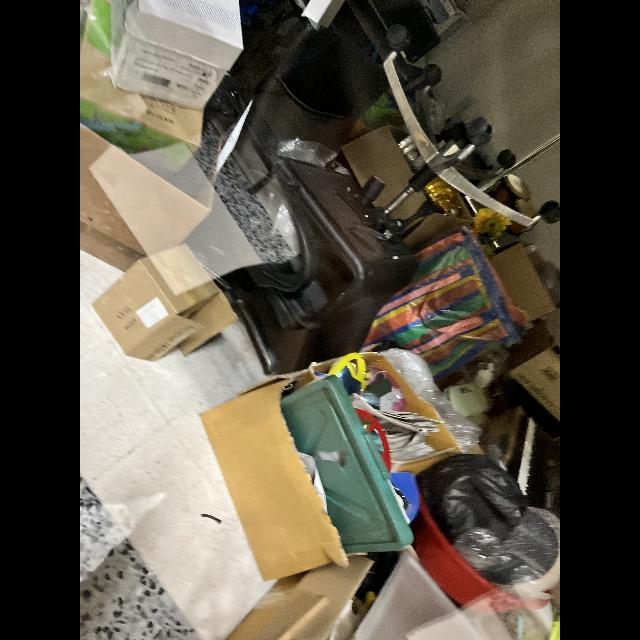cardboard_box: (200, 367, 348, 586), (80, 0, 212, 176), (84, 112, 222, 268), (96, 238, 238, 369), (96, 0, 250, 111)
